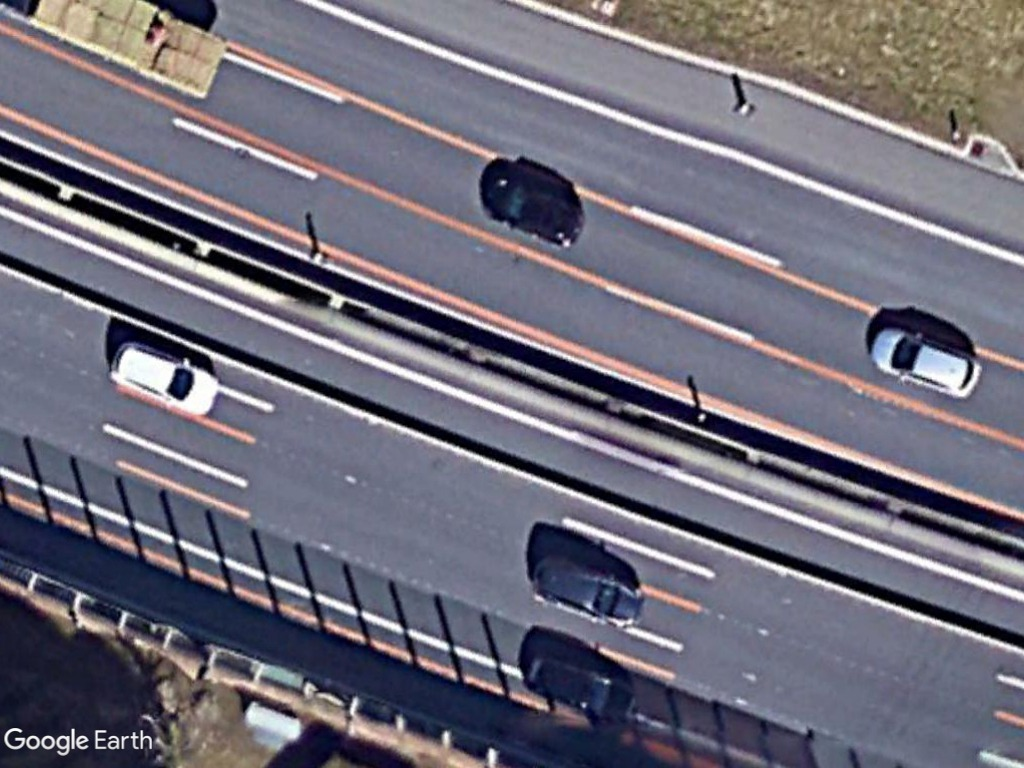car: (109, 336, 223, 419), (867, 323, 984, 399), (534, 556, 647, 628)
